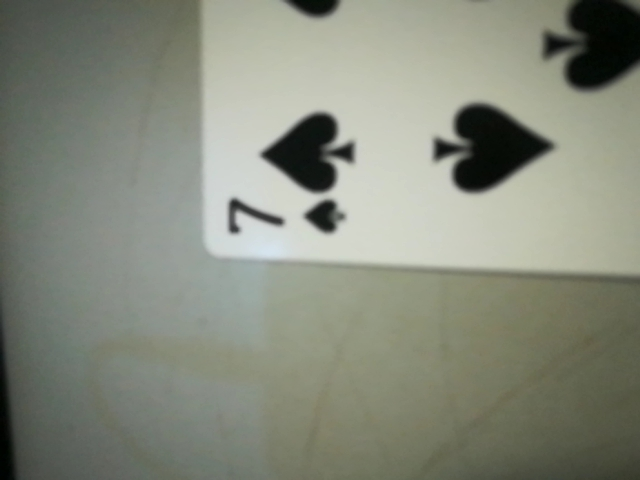ht 7: (204, 176, 366, 260)
